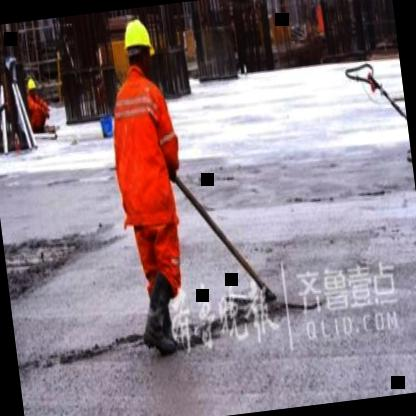helmet: (120, 13, 158, 80), (24, 74, 38, 104)
